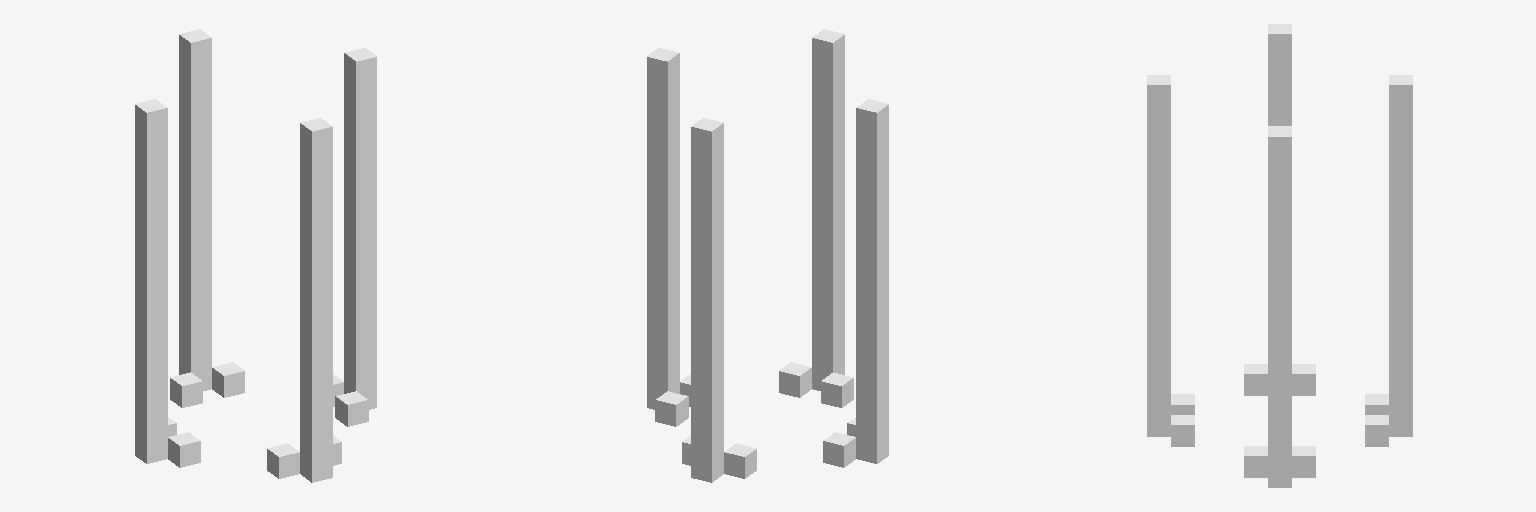
File: vox-4-Fountain_WaterDrop.obj
3 views of the same model, side by side, from view 1: azimuth 30°, elevation 25°; view 2: azimuth 150°, elevation 25°; view 3: azimuth 270°, elevation 25° (orthographic).
Visible parts, largest first — view 1: Fountain_WaterDrop; view 2: Fountain_WaterDrop; view 3: Fountain_WaterDrop.
Part boxes in pixels (x1,y1,x2,y2): Fountain_WaterDrop: (135, 29, 376, 482); Fountain_WaterDrop: (647, 29, 888, 482); Fountain_WaterDrop: (1147, 24, 1412, 487).
Size of the model in its own units: 1.1 by 1.6 by 1.1.